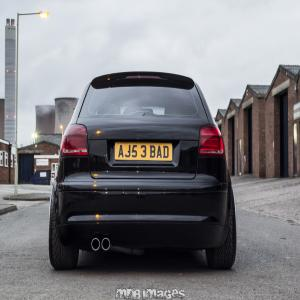Vehicle-registration-plate: (111, 133, 191, 185)
